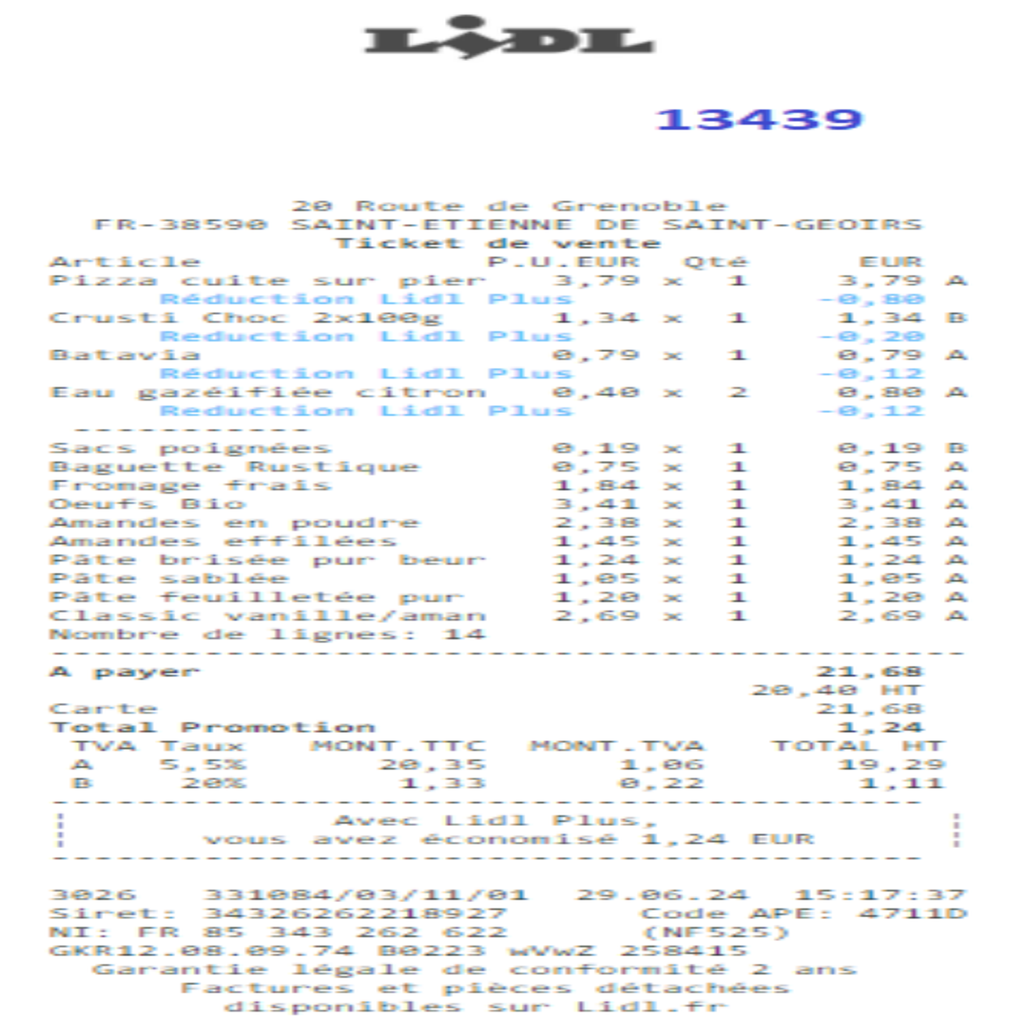recipt: (6, 4, 1018, 1018)
